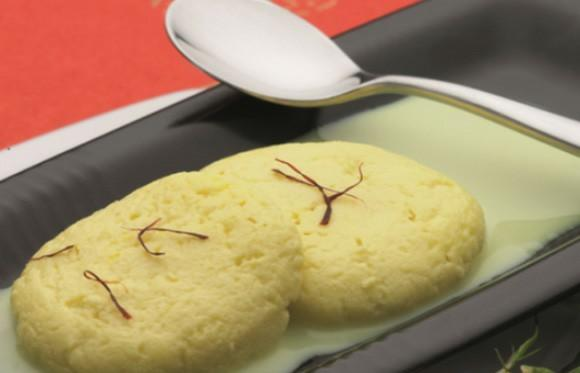RasMalai: (10, 142, 486, 373)
